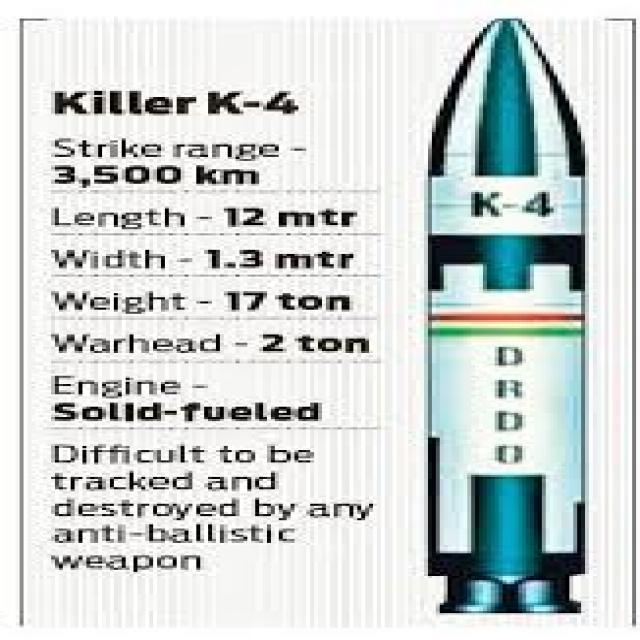Missile: (384, 6, 609, 620)
